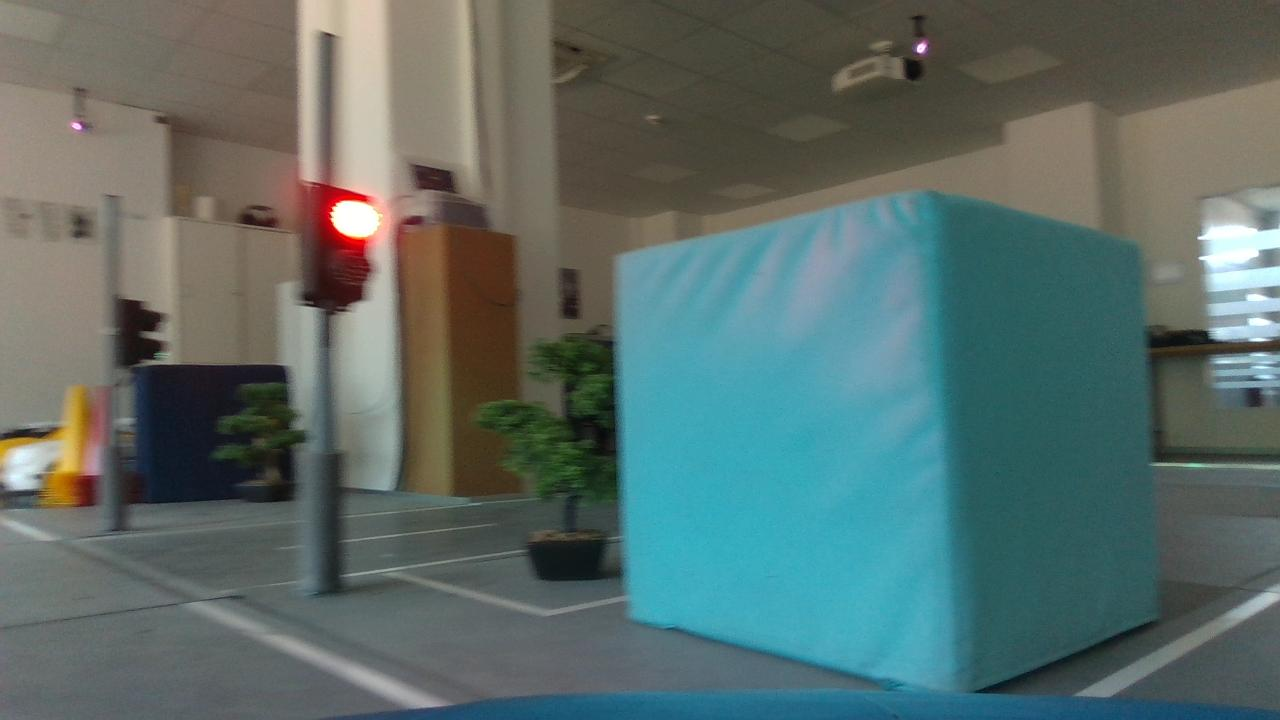traffic_light_red: (258, 154, 410, 331)
